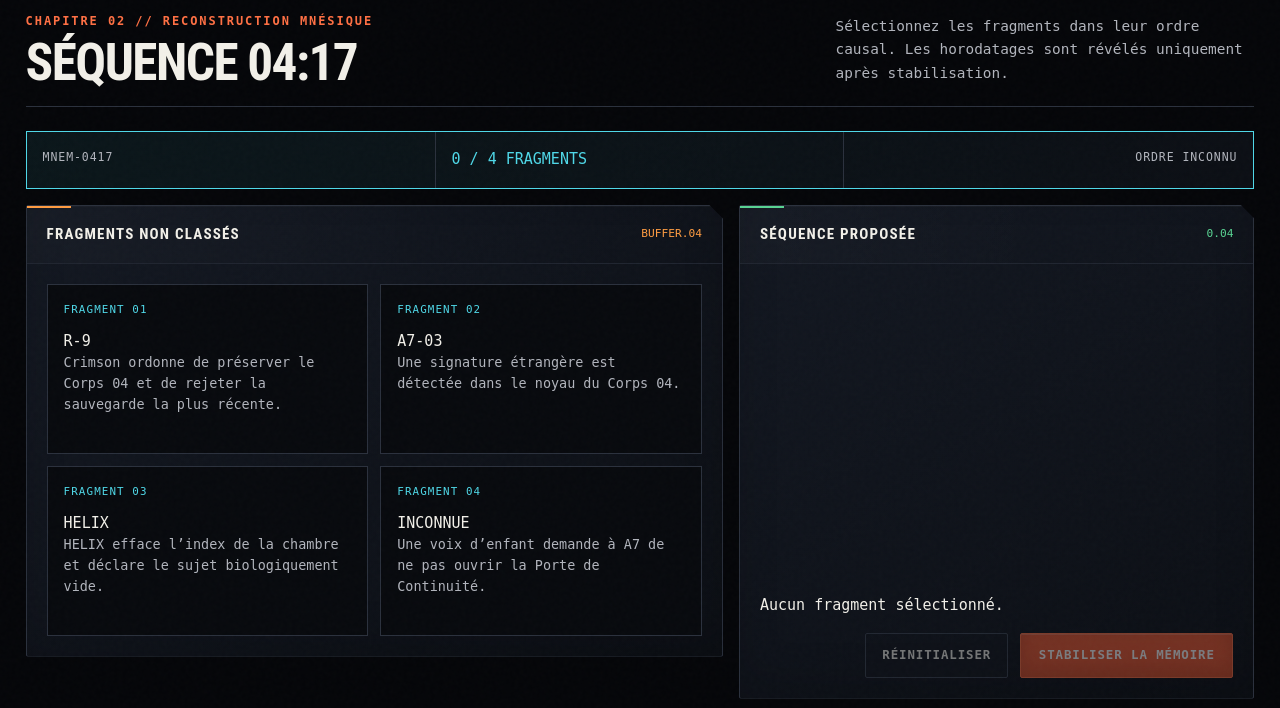
Chapitre 02 — Les Sept Corps › refuse une séquence incohérente sans bloquer le joueur
Click the button "R-9" at (207, 369), box [47, 284, 368, 454]
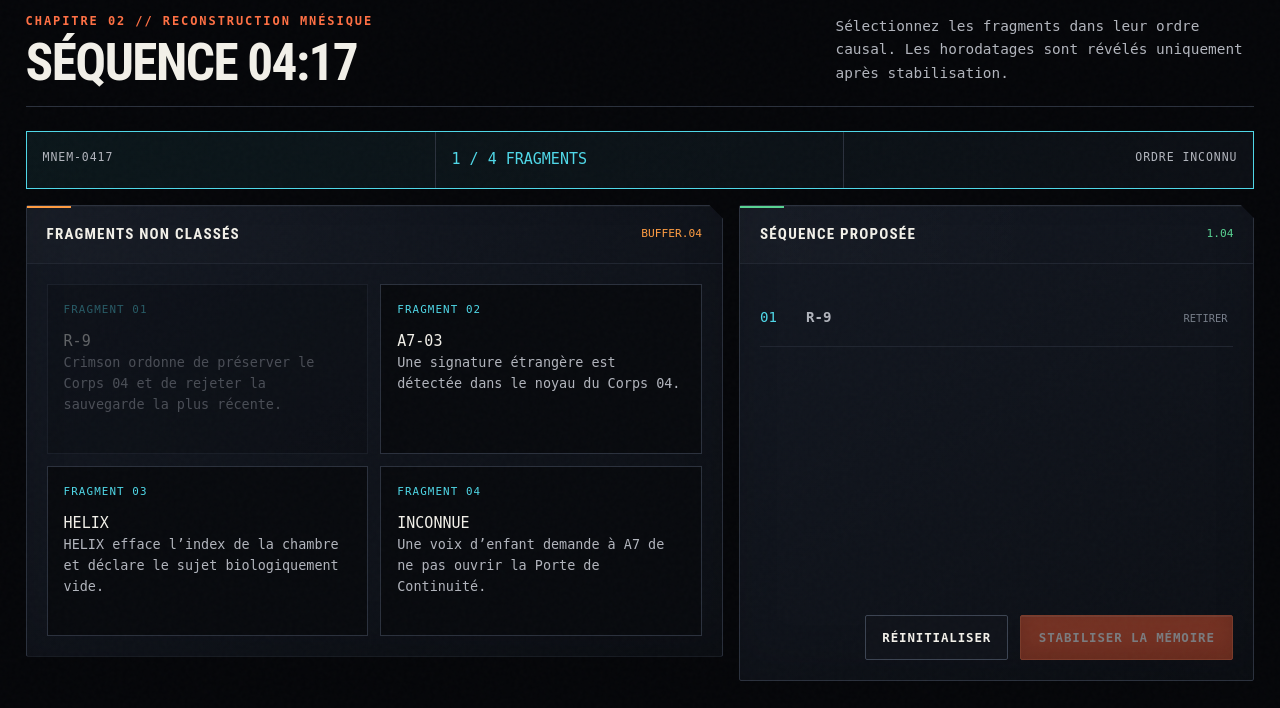
Click the button "A7-03" at (541, 369), box [380, 284, 702, 454]
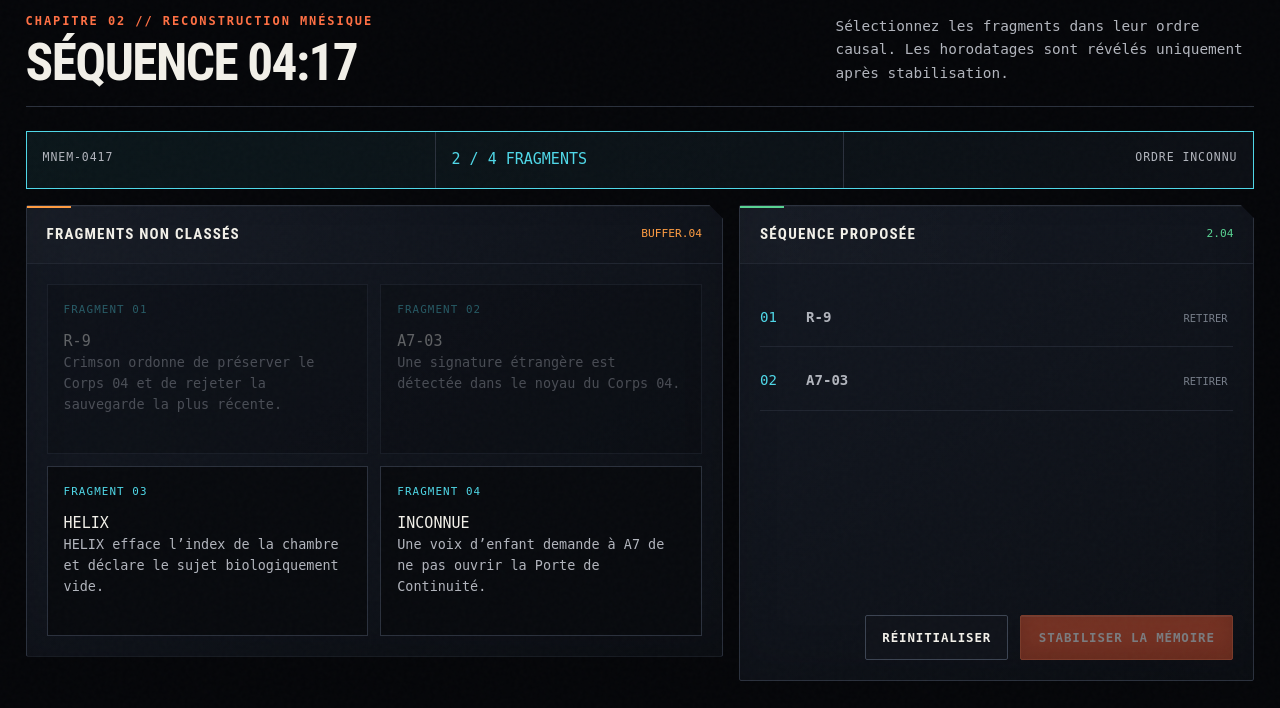
Click the button "INCONNUE" at (541, 551), box [380, 466, 702, 636]
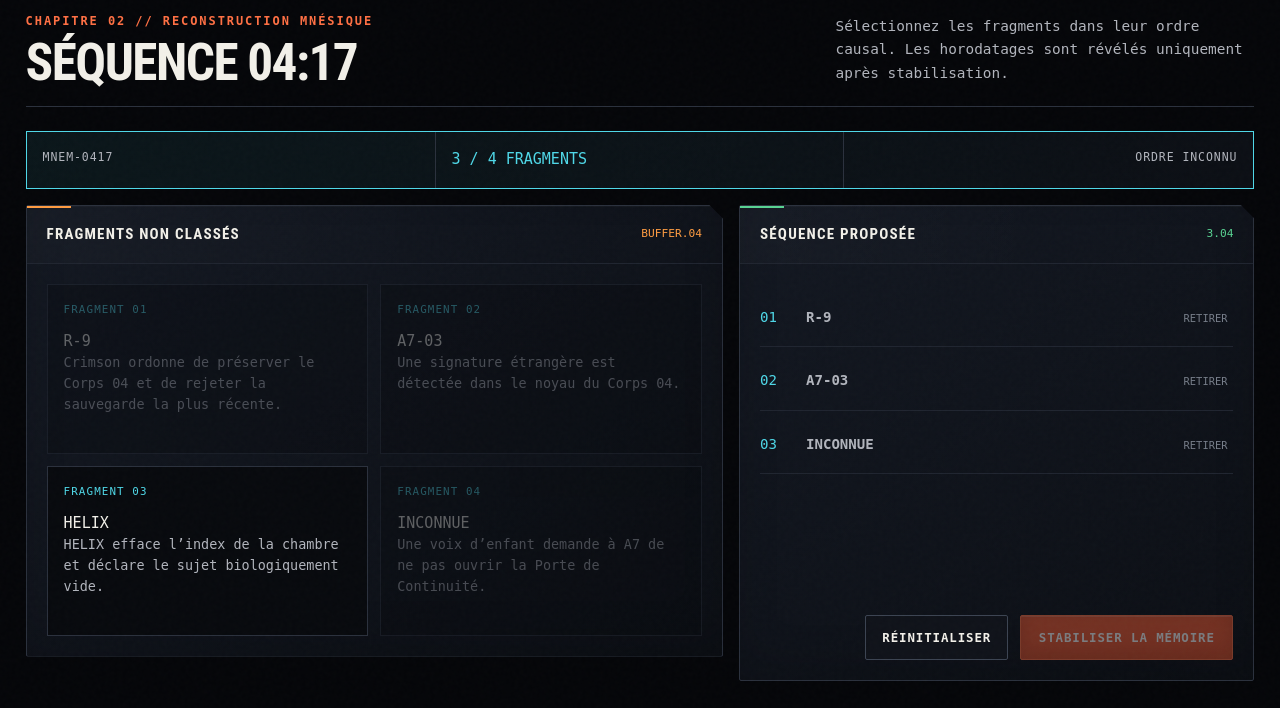
Click the button "HELIX" at (207, 551), box [47, 466, 368, 636]
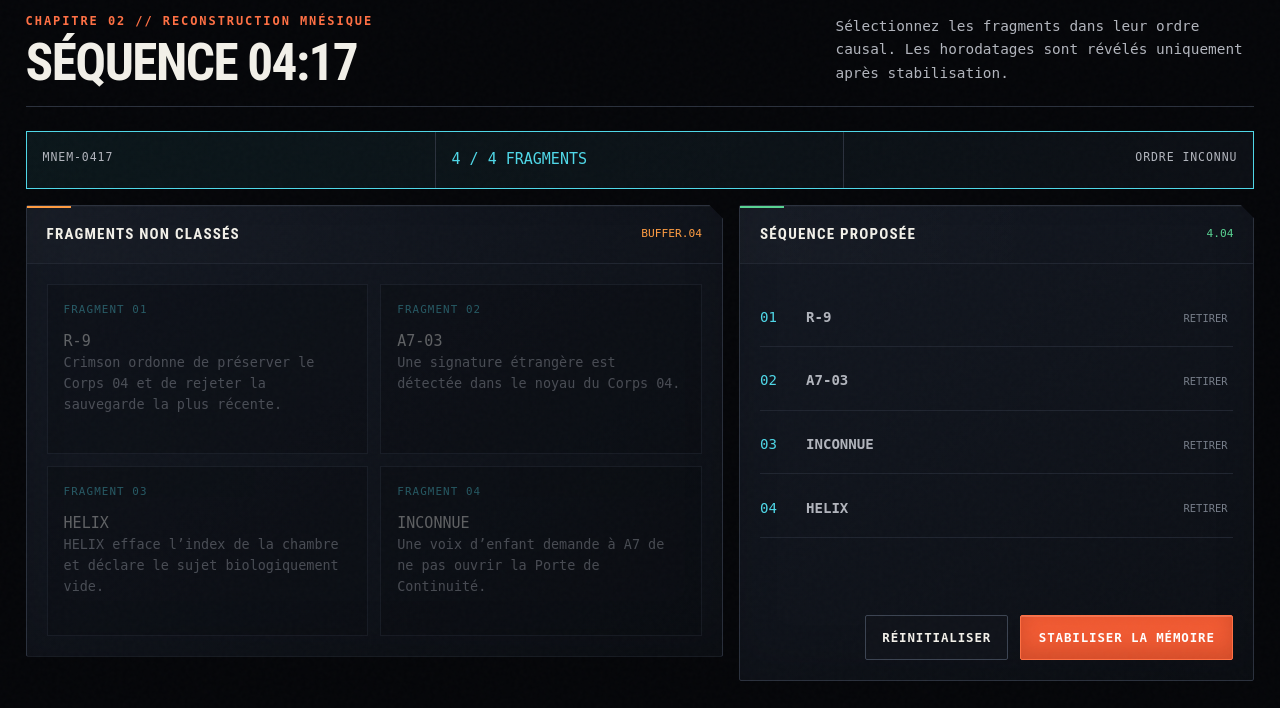
Click the button "STABILISER LA MÉMOIRE" at (1127, 638), box [1020, 615, 1233, 660]
(page scrolled)
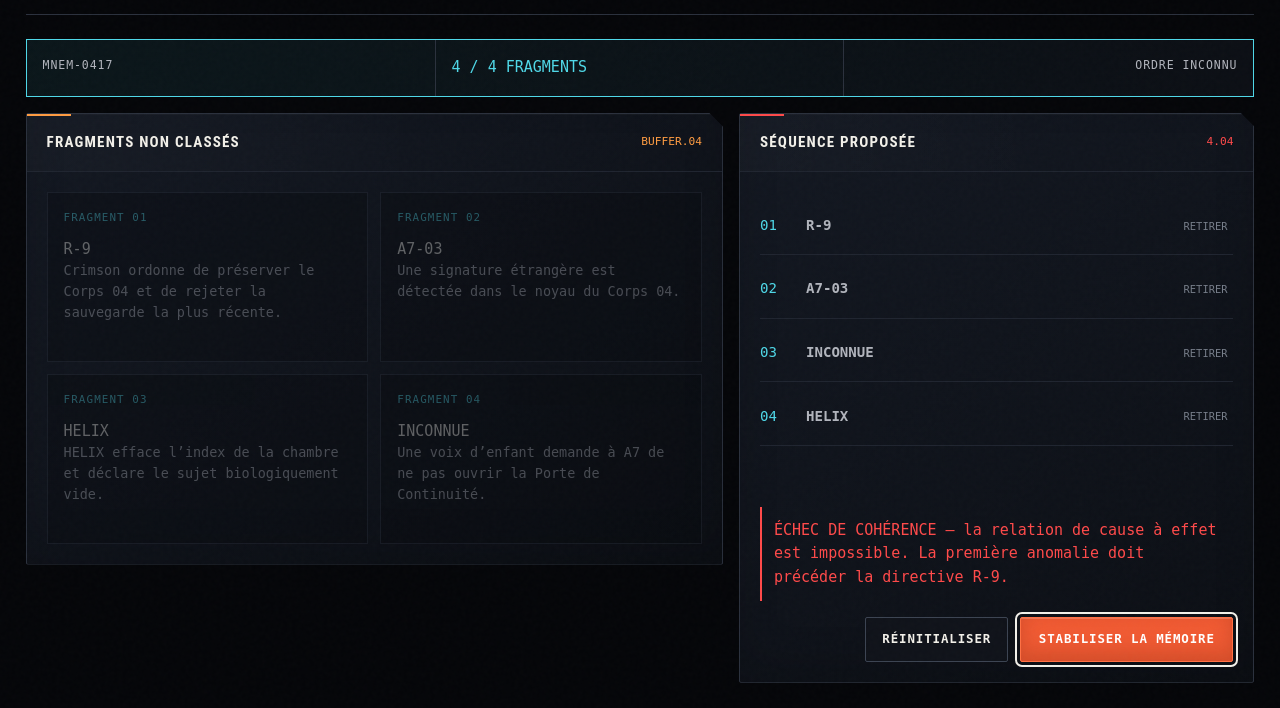
Expected: the button "RÉINITIALISER" is enabled, [865, 617, 1008, 662]
Expected: the message shows "ÉCHEC DE COHÉRENCE", [774, 521, 1216, 586]
